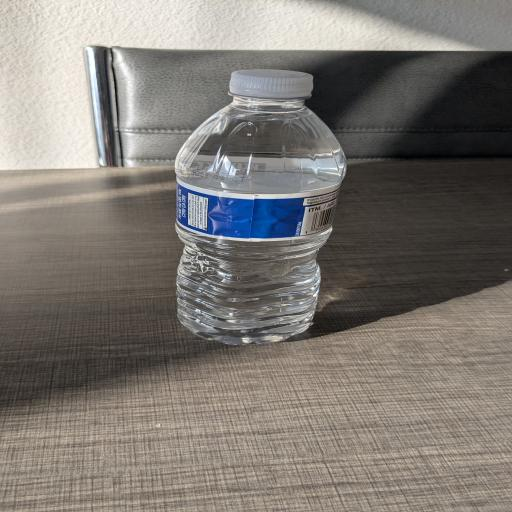waterbottle: (176, 70, 346, 344)
